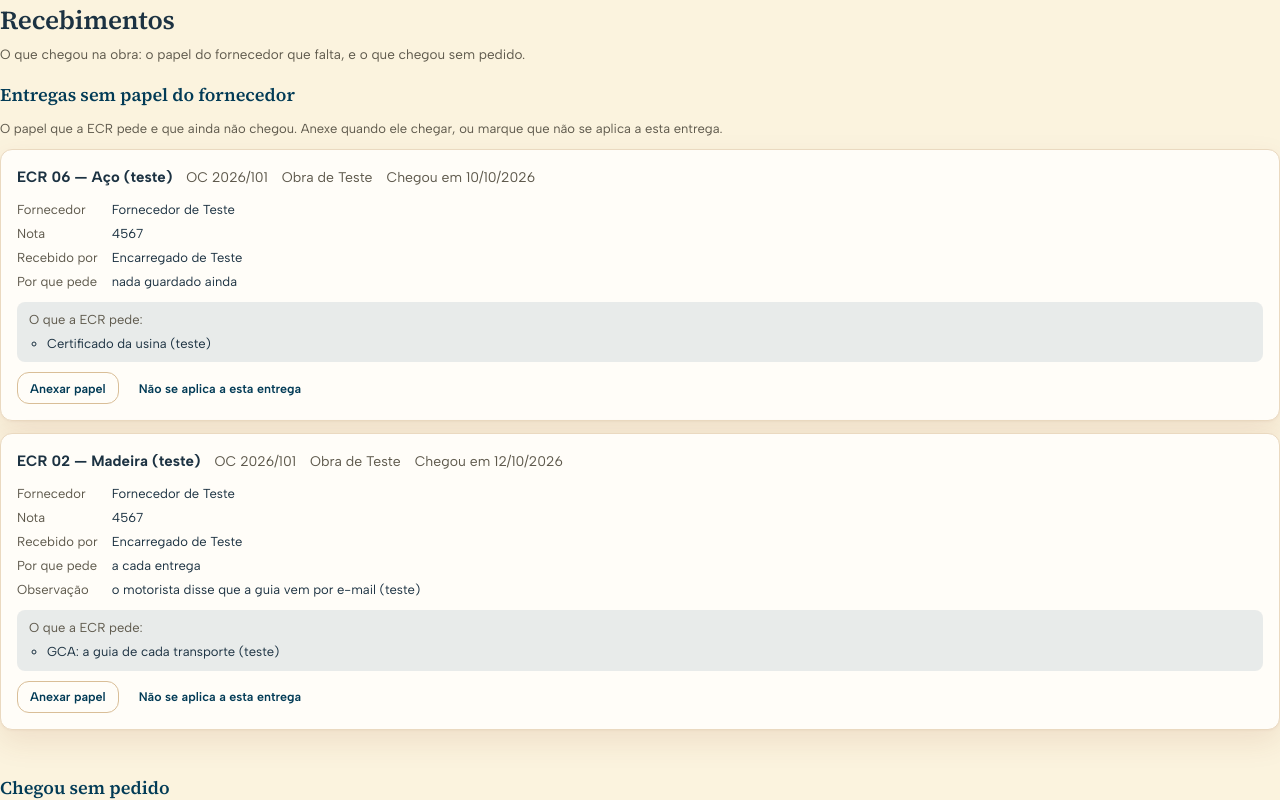
Test: "Não se aplica a esta entrega" › a recusa do banco fica na janela, e a linha continua
Expected: the list item that starts with "ECR 06 — Aço (teste)" is shown, [0,149,1279,421]
Click the button "Não se aplica a esta entrega" below "ECR 06 — Aço (teste)". click: (220, 388)
box: [127,372,313,404]
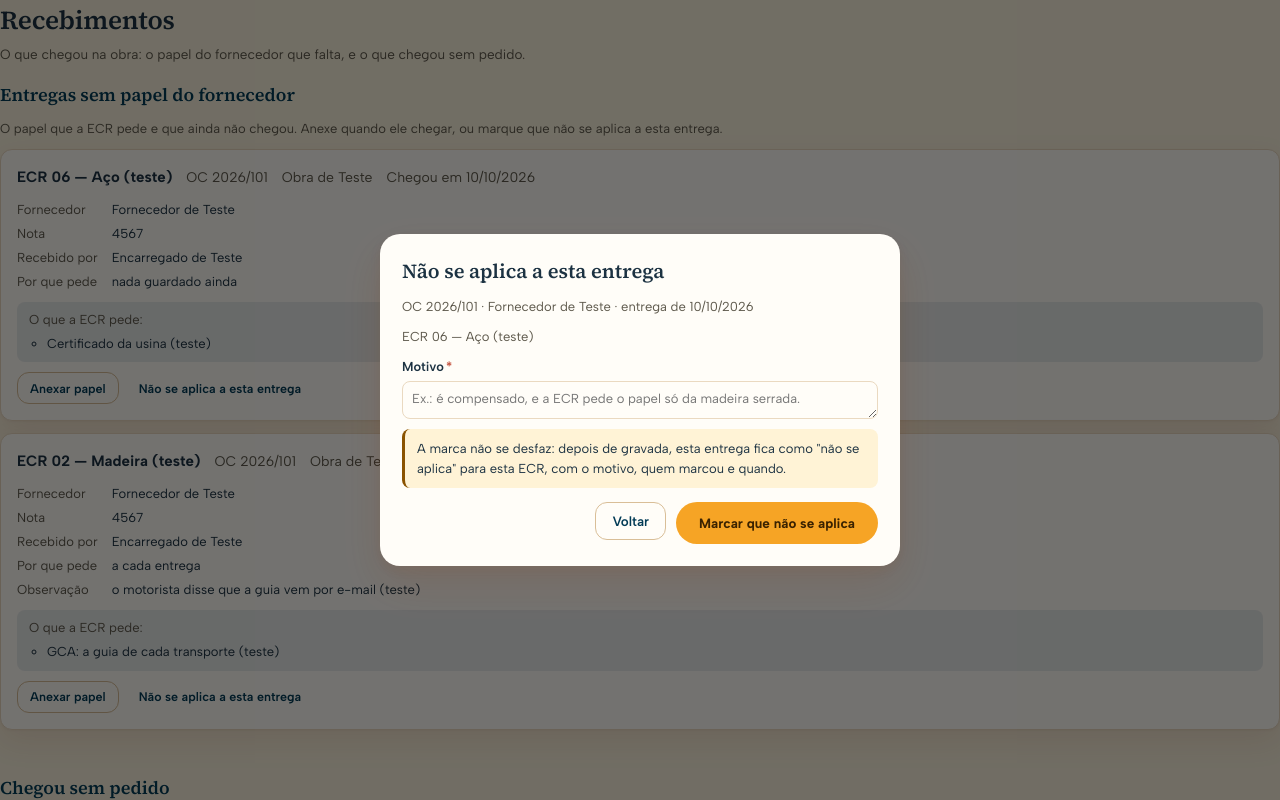
Replace the text in the text box with "motivo (teste)". click: (640, 400)
box: [402,381,878,419]
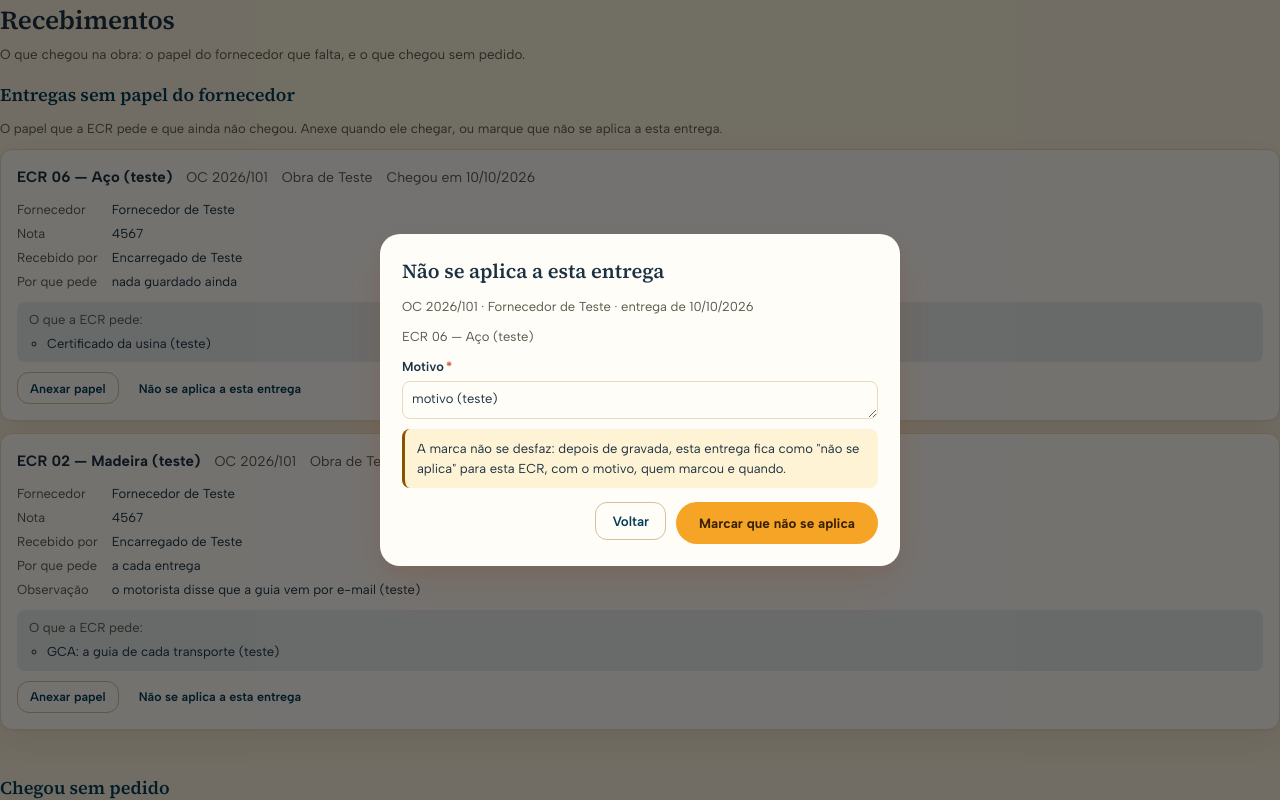
Click the button "Marcar que não se aplica". click: (777, 523)
box: [676,502,878,544]
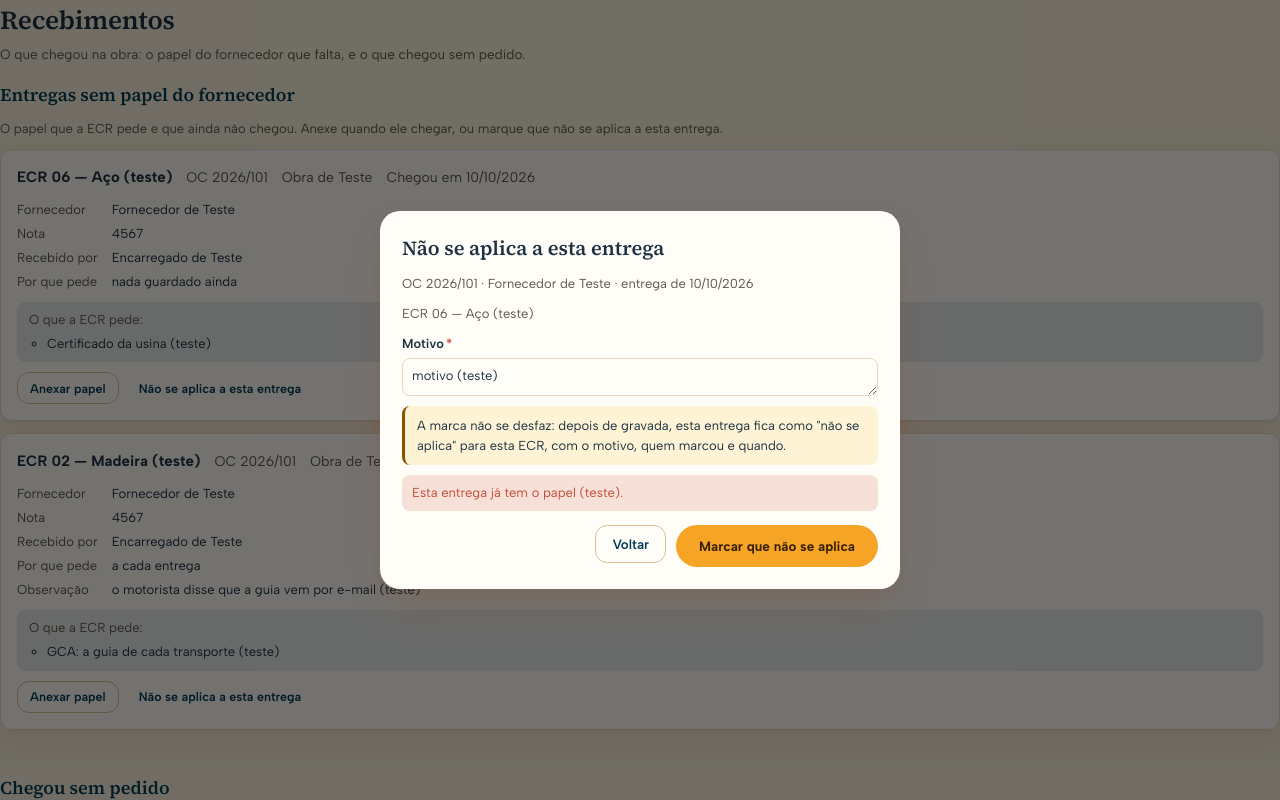
Expected: the list item is shown, [0,149,1279,421]
Expected: the message reads "Esta entrega já tem o papel (teste).", [412,485,623,500]
